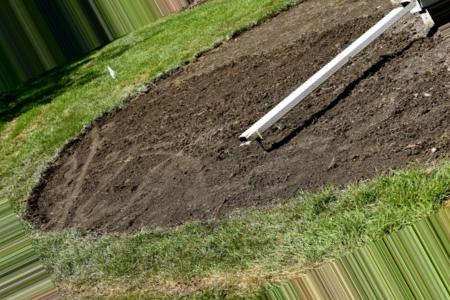patch: (109, 71, 269, 136), (62, 152, 230, 208), (238, 14, 357, 60), (338, 77, 444, 119), (276, 130, 359, 180)
